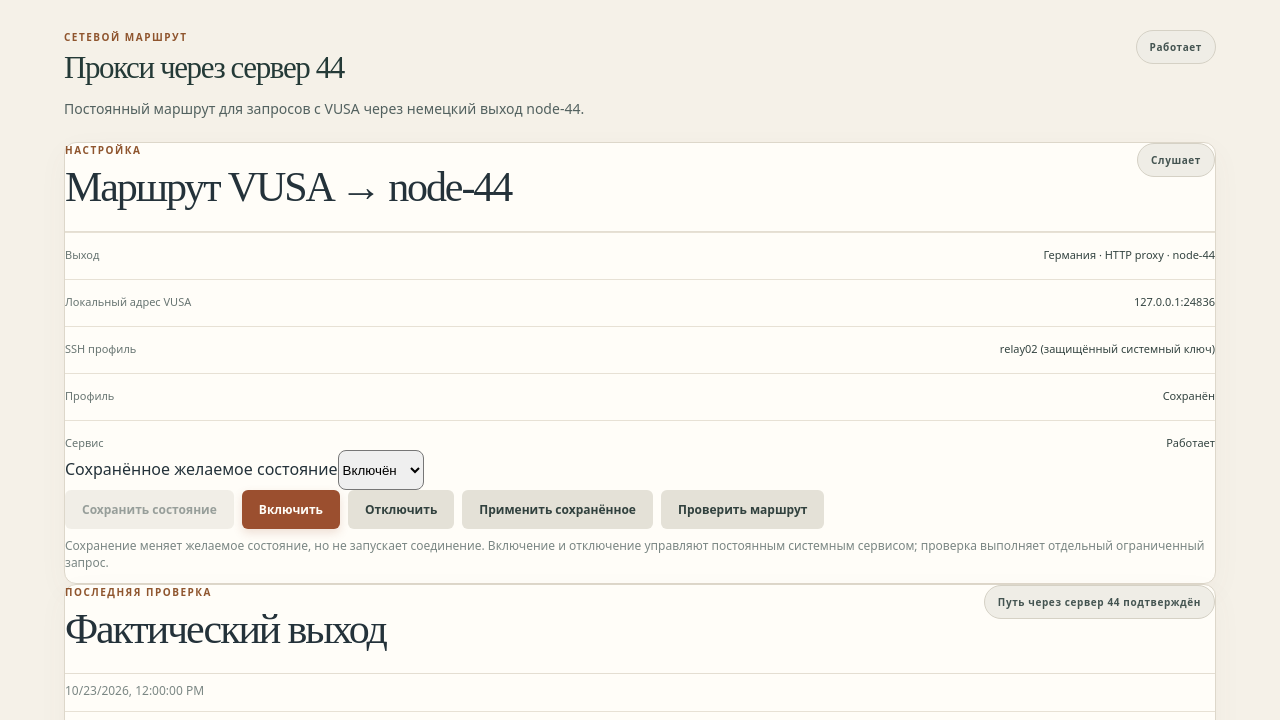
Scenario: marks runtime unknown and keeps the previous probe as history when a rejected action cannot be read back
expect the text "Слушает" is shown: met, box [1137, 143, 1215, 177]
Click the button "Включить". click: {"x": 291, "y": 510}
box: [242, 490, 340, 529]
(page scrolled)
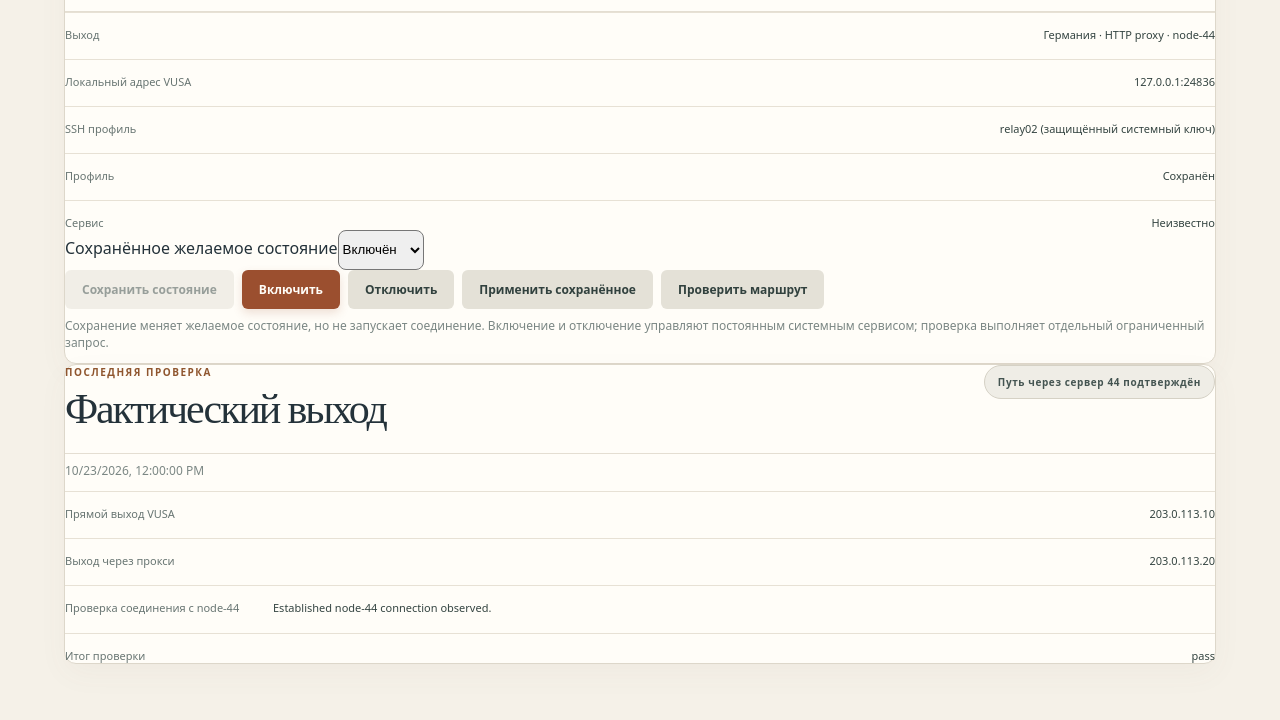
expect the text "Путь через сервер 44 подтверждён" is shown: met, box [984, 365, 1215, 399]
expect the text "Работает" is gone: met
